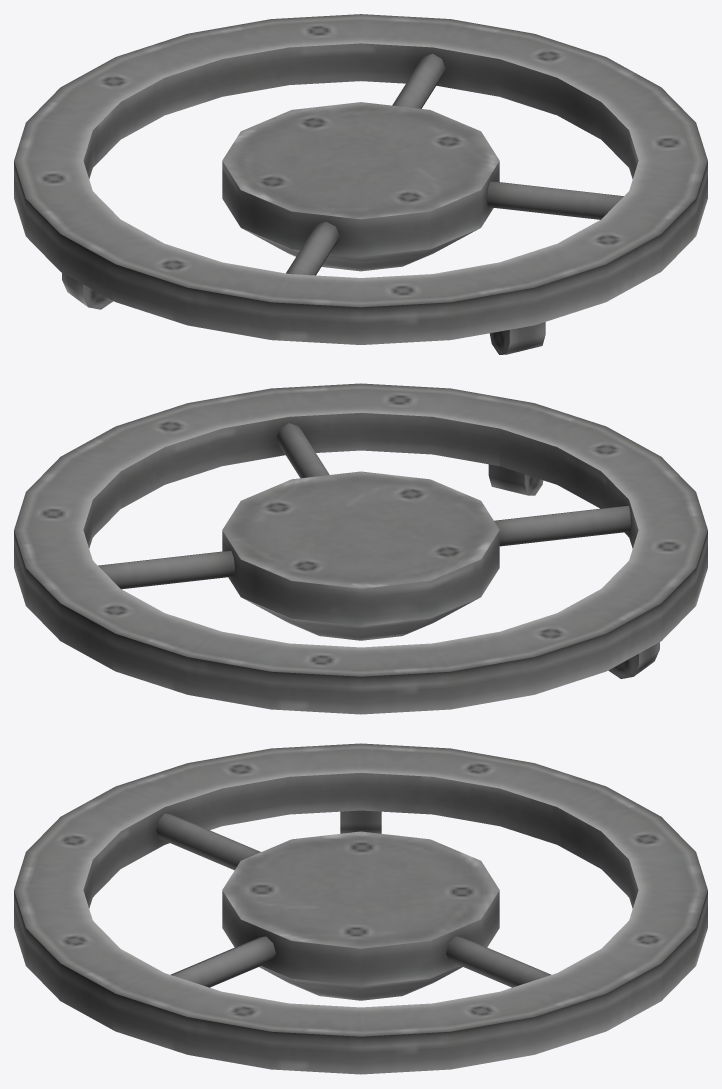
The model's file is black_anvil_engine_s0_1_base.obj.
3 views of the same model, one above another, from view 1: azimuth 30°, elevation 25°; view 2: azimuth 150°, elevation 25°; view 3: azimuth 270°, elevation 25° (orthographic).
Visible parts, largest first — view 1: base1; view 2: base1; view 3: base1.
Boxes of the visible parts, box(x1,y1,x2,y2) form: base1: box(14, 14, 707, 354); base1: box(14, 383, 707, 714); base1: box(14, 743, 707, 1074).
Bounding box in the file's own units: 0.625 × 0.075 × 0.625.
1 material, 1 textured.
